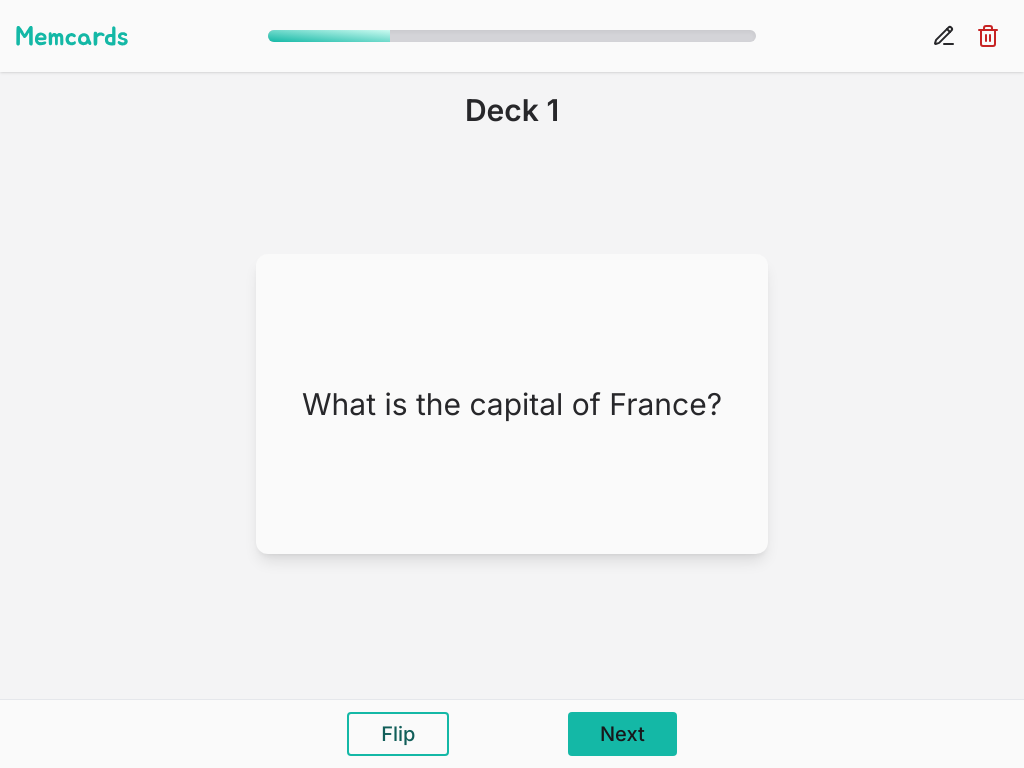
Test: StudyView › shows the next card
expect the text "What is the capital of France?" is shown: met, box [302,386,722,422]
Click the button "Next".
click(622, 734)  # box [568,712,677,756]
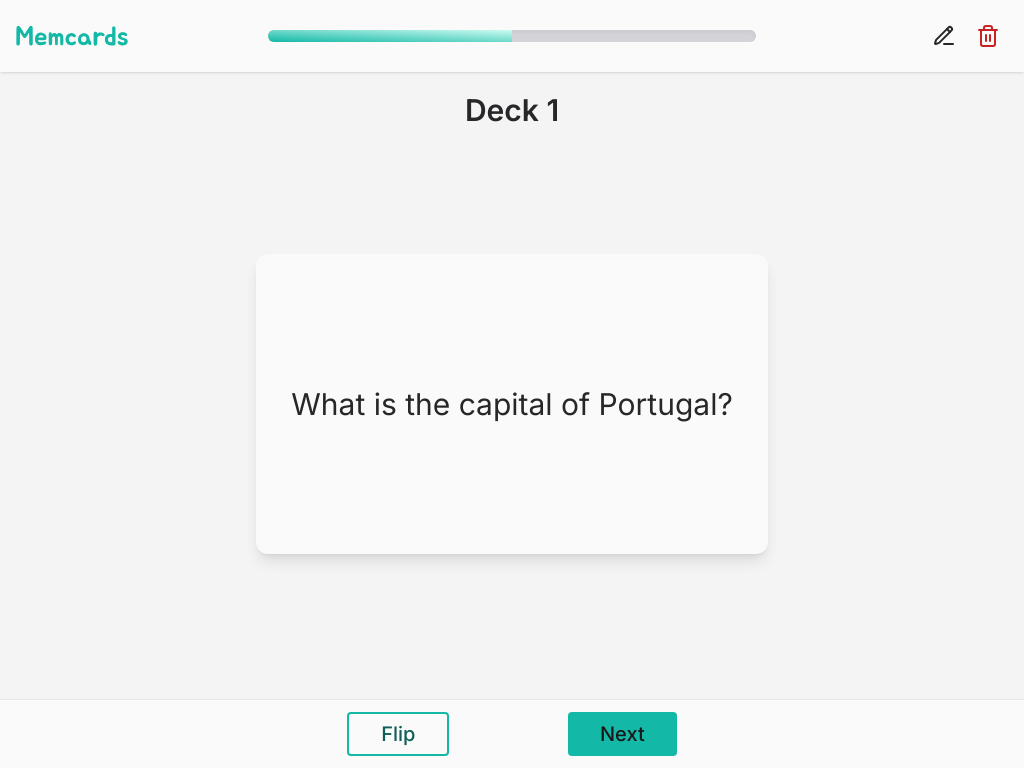
expect the text "What is the capital of Portugal?" is shown: met, box [291,386,733,422]
